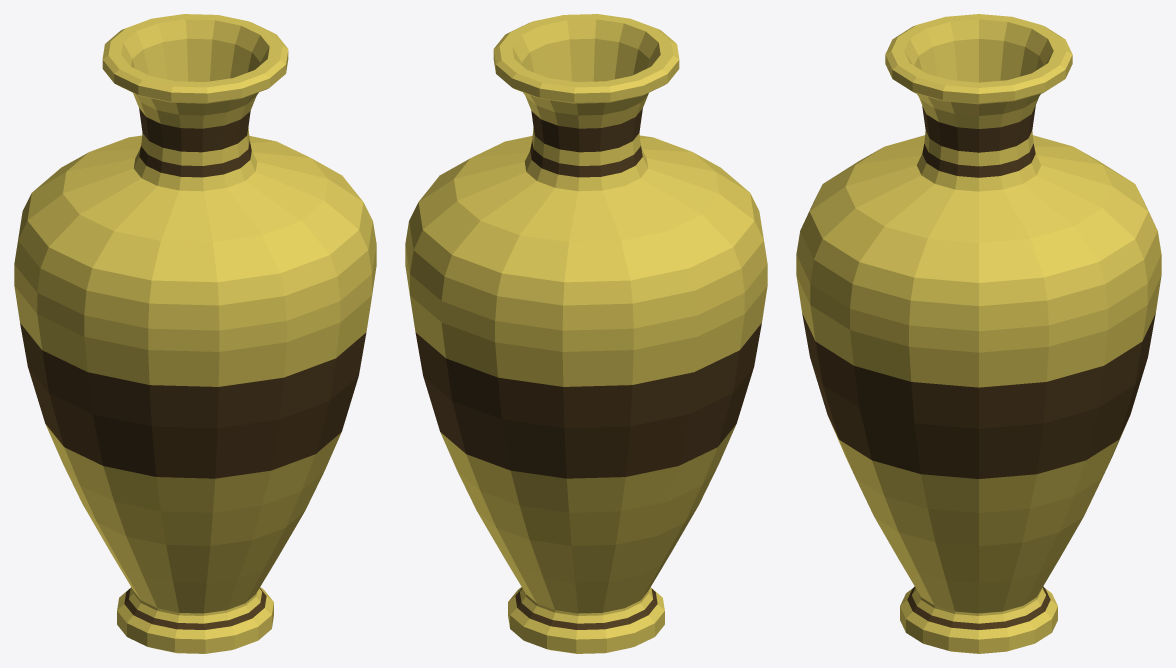
The model's file is vase.fbx.
3 renders of one model, left to right at view 1: azimuth 30°, elevation 25°; view 2: azimuth 150°, elevation 25°; view 3: azimuth 270°, elevation 25°, orthographic.
Visible parts, largest first — view 1: Cylinder; view 2: Cylinder; view 3: Cylinder.
Boxes of the visible parts, x1,y1,x2,y2 form: Cylinder: (14, 14, 376, 653); Cylinder: (405, 14, 767, 653); Cylinder: (796, 14, 1161, 653).
Size of the model in its own units: 143 by 248 by 143.
